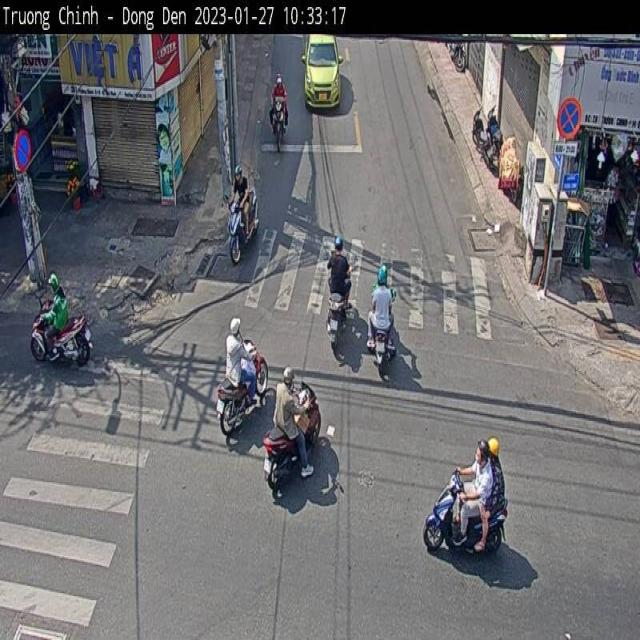helmet: (486, 424, 505, 462), (474, 433, 490, 471), (228, 311, 245, 341), (278, 358, 296, 386), (375, 252, 391, 282), (332, 230, 344, 256)
